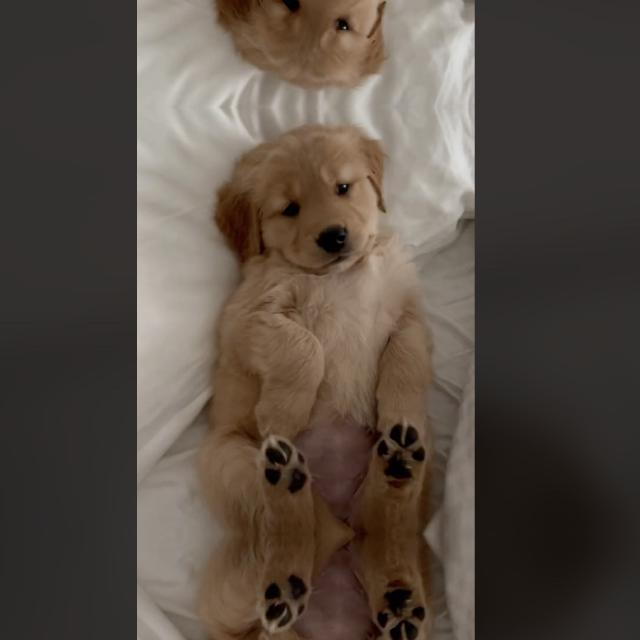dog: (216, 121, 459, 534), (216, 532, 459, 640), (216, 0, 459, 91)
